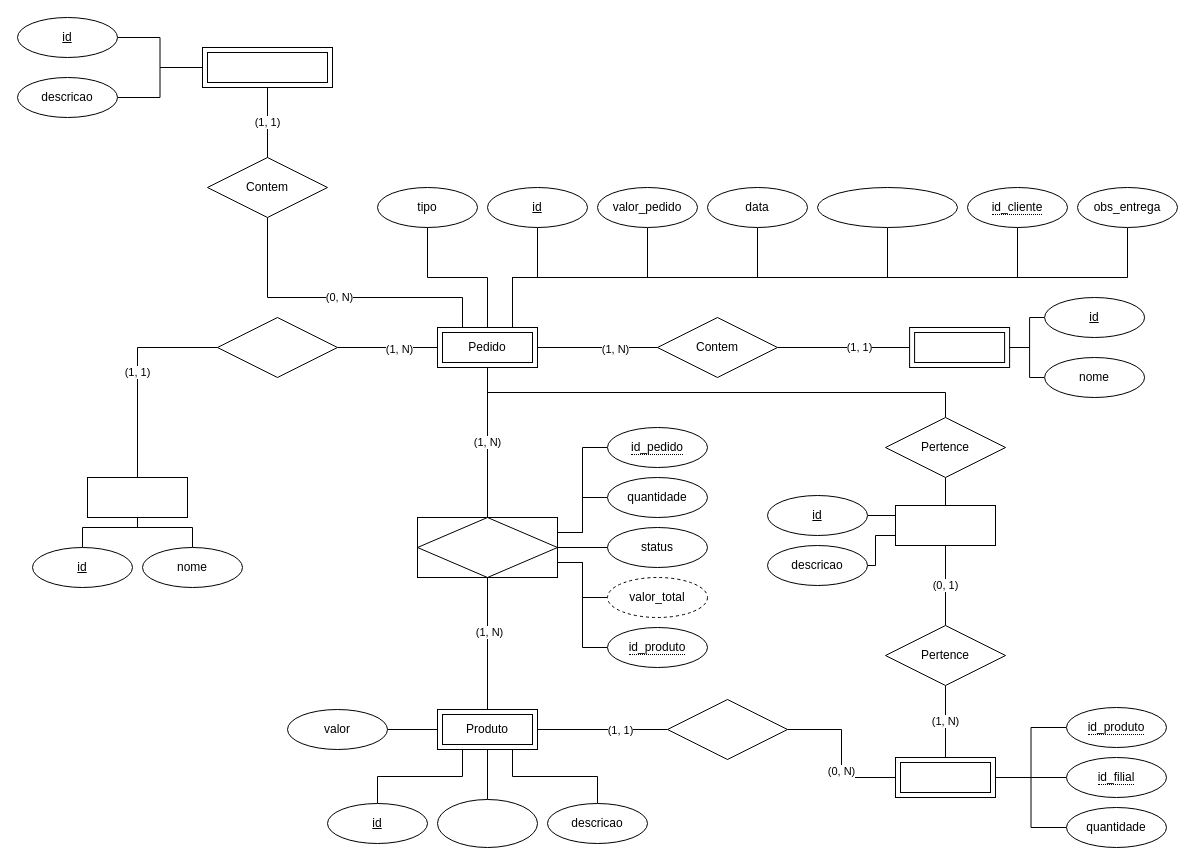
The diagram is 1195 pixels wide and 865 high, and some of its shapes have lost their labels. Here are the shapes that lost their labels. From the top down, the box of each, then its label:
(202, 46, 332, 88): FormaPagamento
(816, 186, 958, 228): id_forma_pagamento
(216, 316, 338, 378): Faz
(909, 326, 1010, 368): Cliente
(86, 476, 188, 518): Usuario
(894, 504, 996, 546): Filial
(416, 516, 558, 578): ItensPedido Contem
(666, 698, 788, 760): Existe
(894, 756, 996, 798): Estoque
(436, 798, 538, 848): codigo_barras
